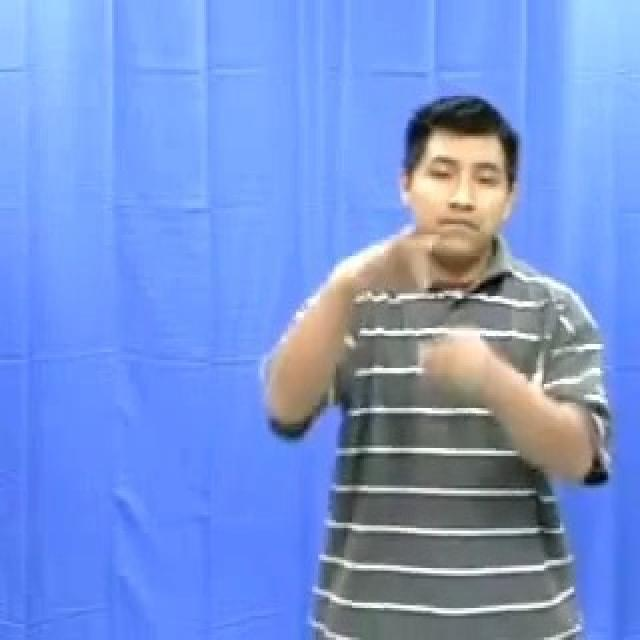coke: (339, 204, 505, 438)
